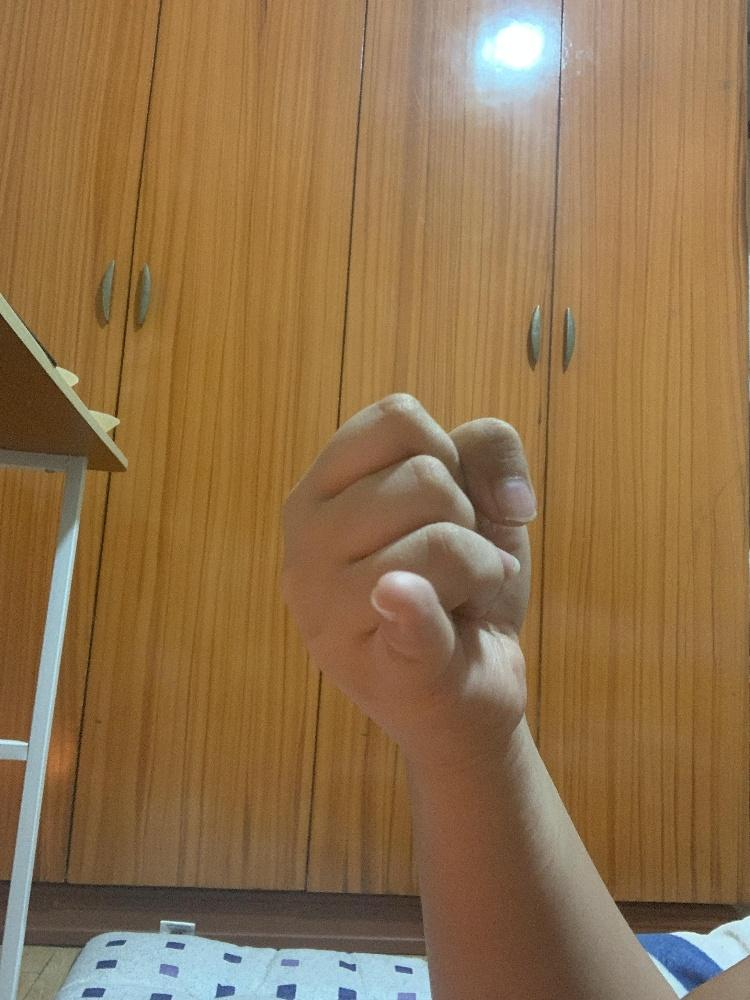j: (272, 389, 540, 757)
